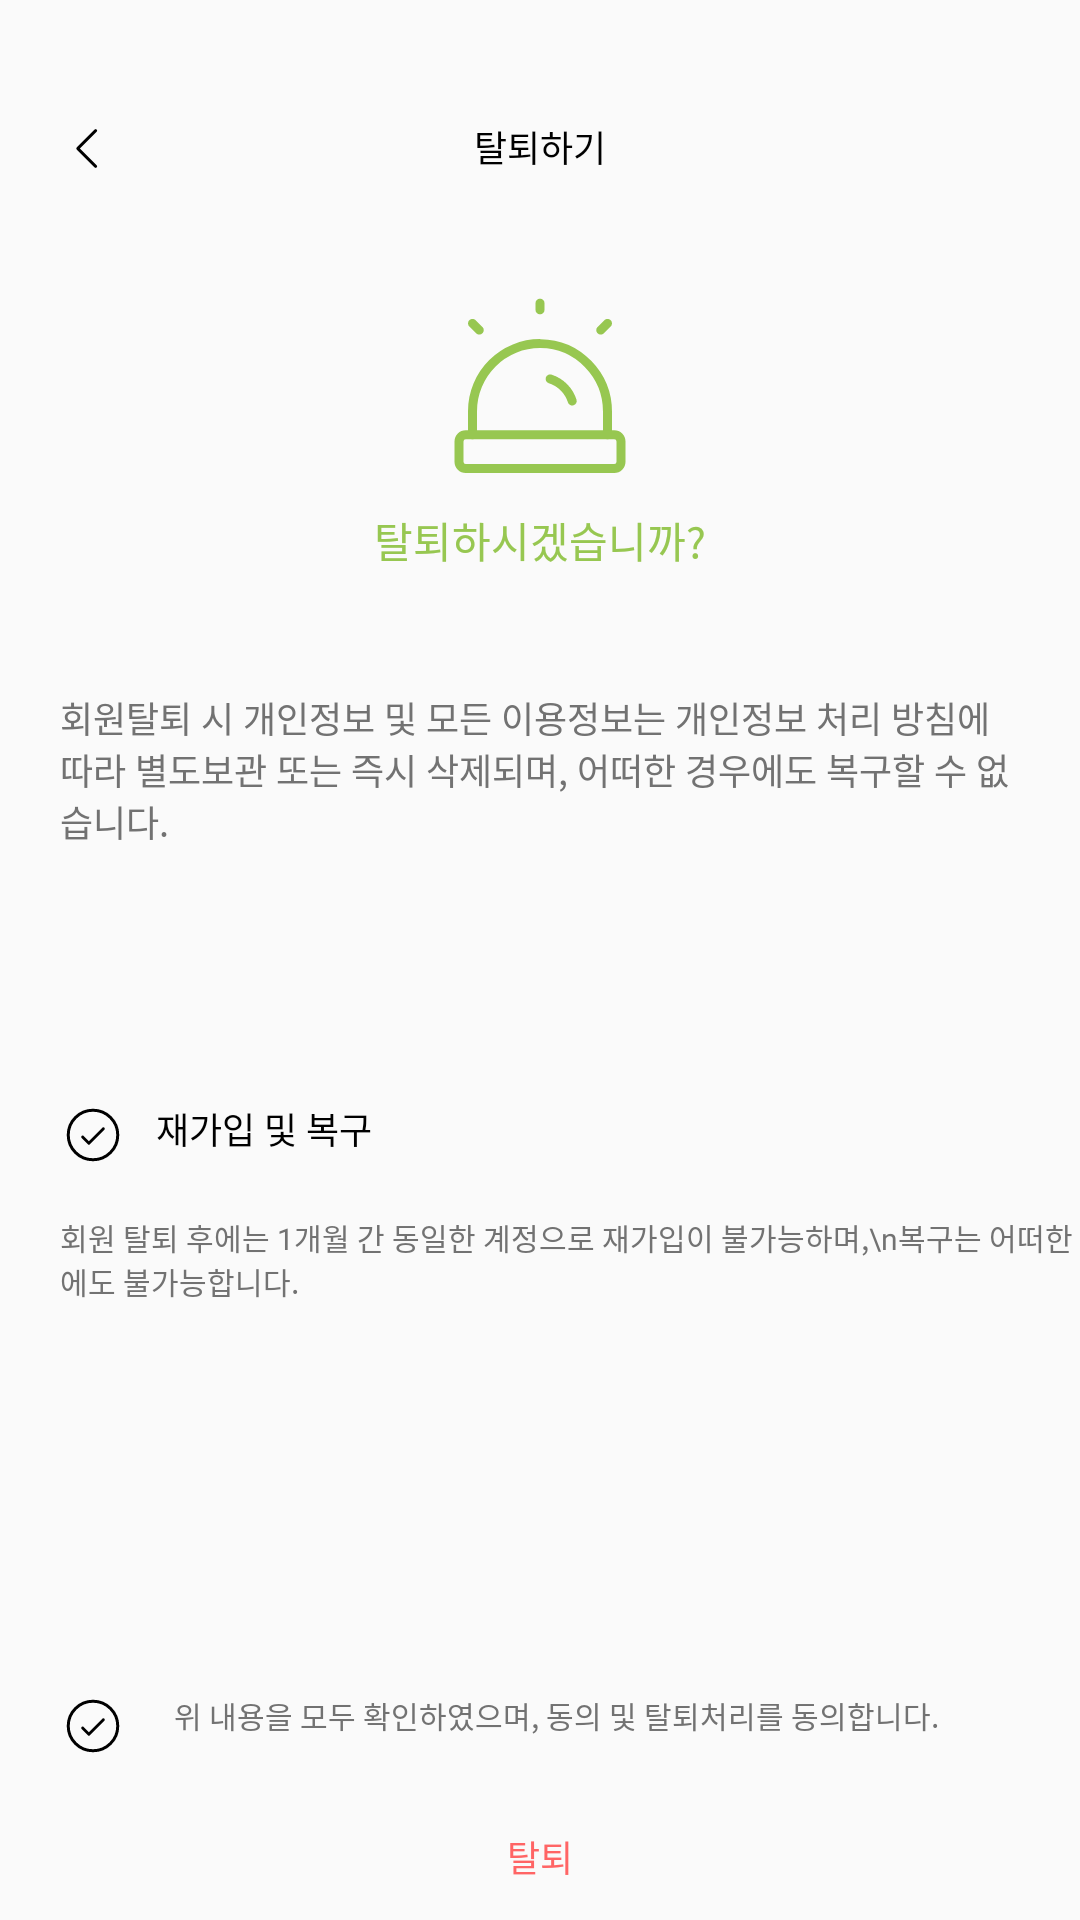

Screen size 1080w x 1920h. Icon name, then its box in pixels as (x1, y1, x2, y2):
backbutton: (76, 129, 97, 168)
checkcircle: (66, 1108, 120, 1162), (66, 1699, 120, 1753)
